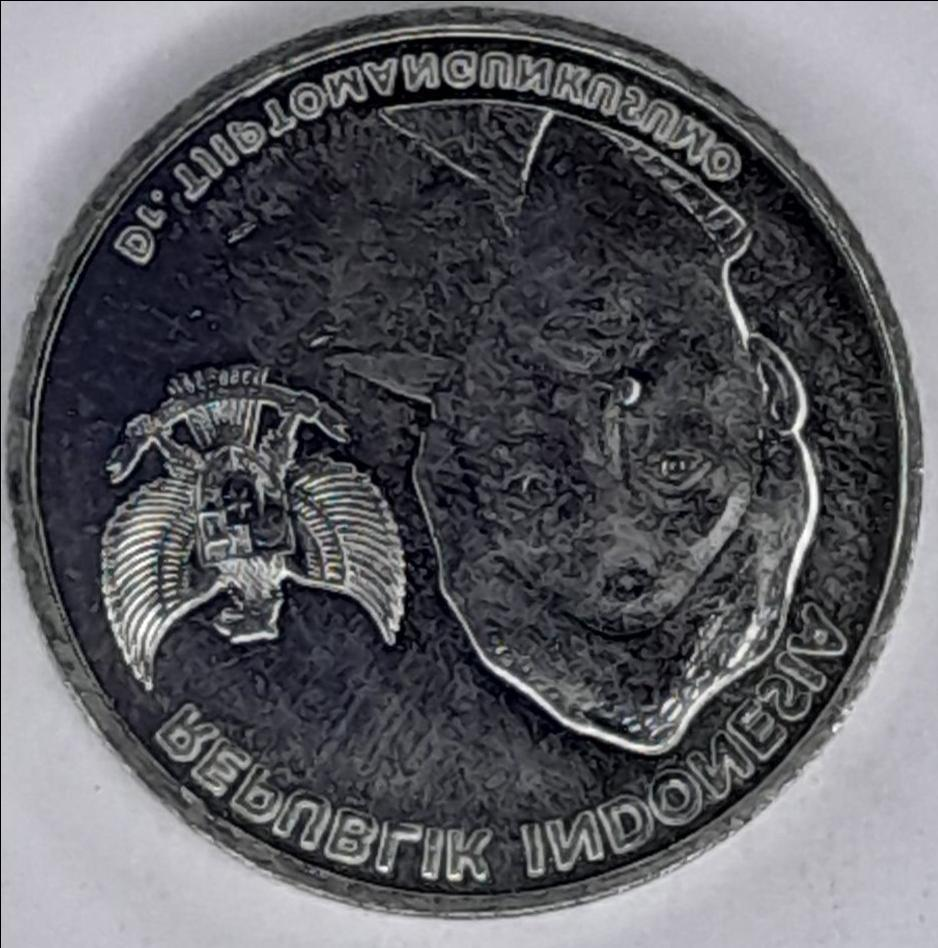coin_200_e2016: (0, 16, 938, 948)
